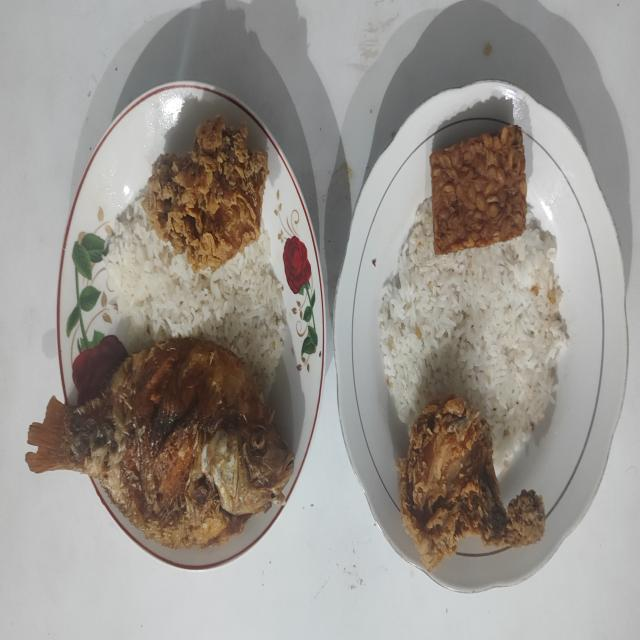ikan_mujair: (26, 338, 294, 548)
nasi_putih: (379, 198, 569, 474), (104, 200, 288, 390)
tempe_goreng: (429, 125, 526, 254)
